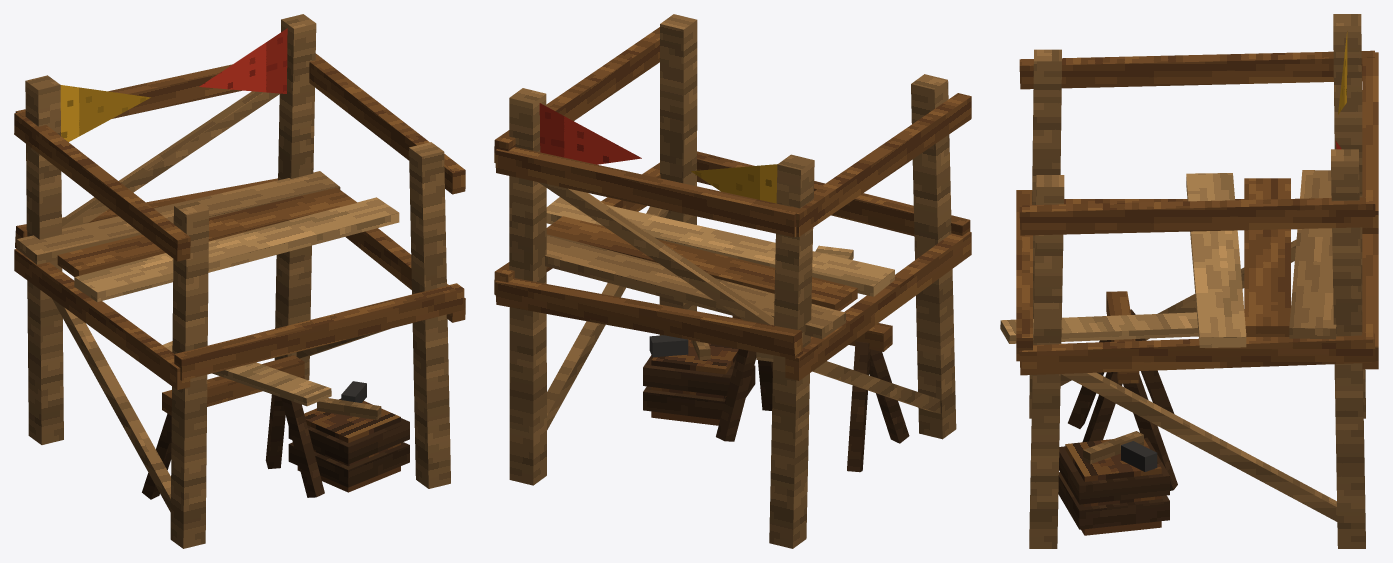
File: site.glb
3 renders of one model, left to right at view 1: azimuth 30°, elevation 25°; view 2: azimuth 150°, elevation 25°; view 3: azimuth 270°, elevation 25°, orthographic. The views are drawn at different scales.
Parts seen in each view (by area): view 1: site; view 2: site; view 3: site.
Boxes of the visible parts, left/top/right/bottom form: site: left=14, top=14, right=465, bottom=548; site: left=494, top=14, right=971, bottom=548; site: left=1000, top=14, right=1378, bottom=548.
Size of the model in its own units: 1.7 by 1.85 by 1.62.
8 materials, 7 textured.
